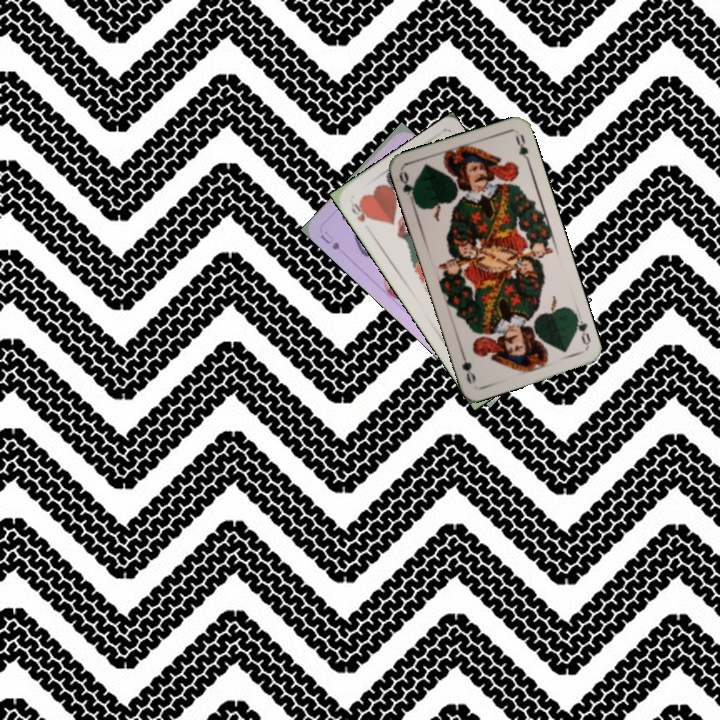GO: (395, 167, 418, 207), (571, 310, 593, 349)
HO: (347, 197, 374, 224)
SU: (316, 227, 342, 253)
